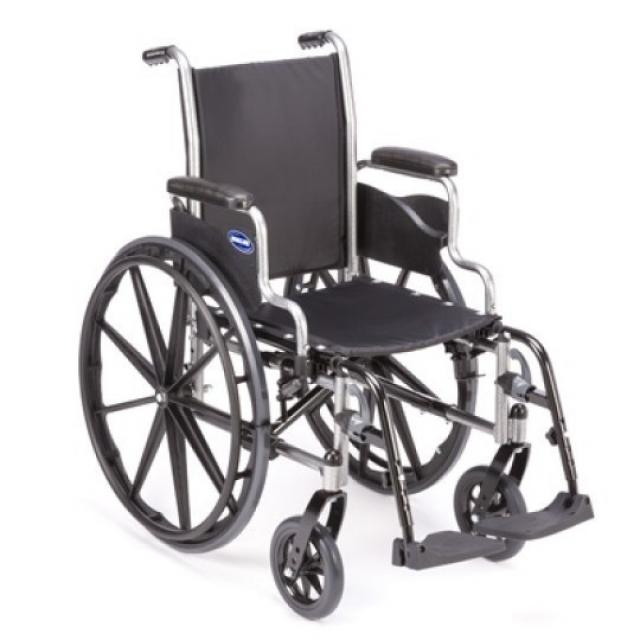wheelchair: (71, 14, 612, 620)
